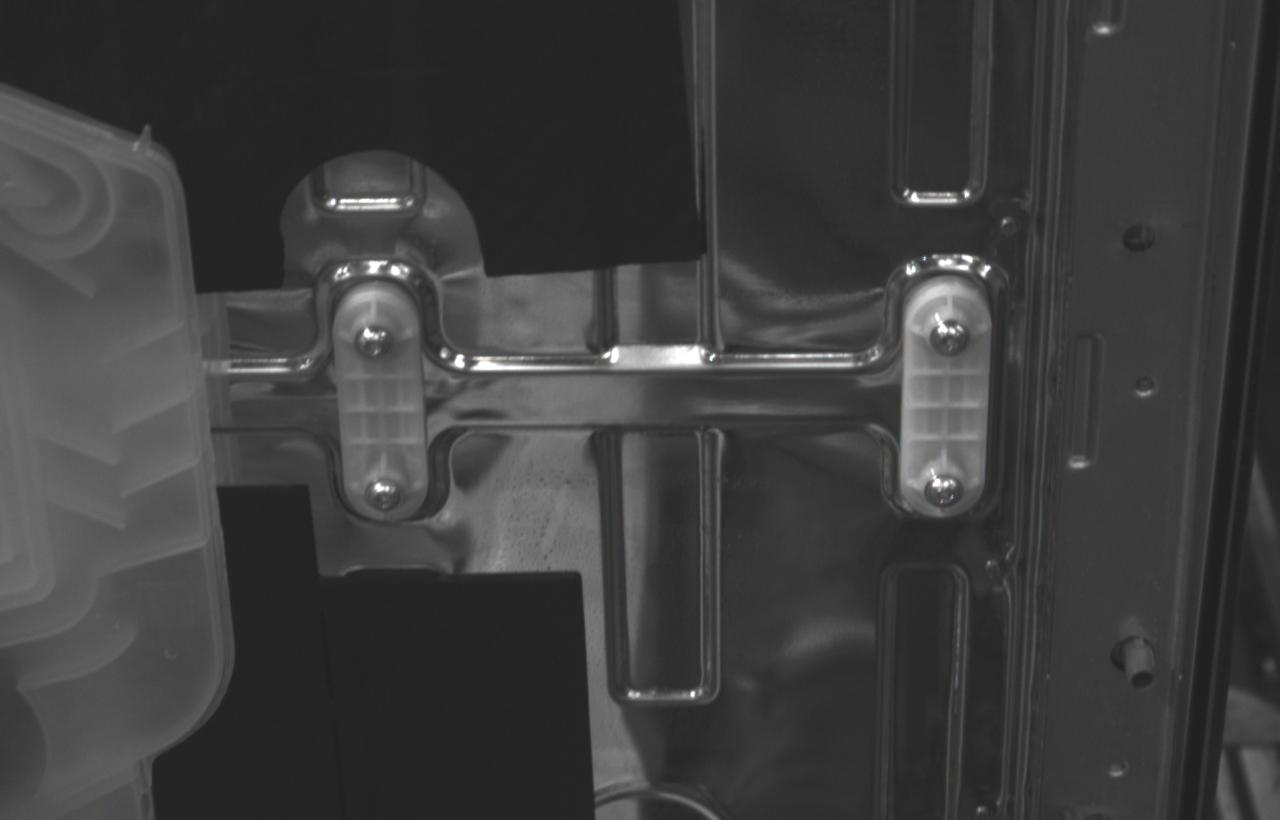vida-ok: (930, 320, 971, 356), (354, 324, 393, 360), (924, 474, 964, 508), (364, 478, 401, 512)
